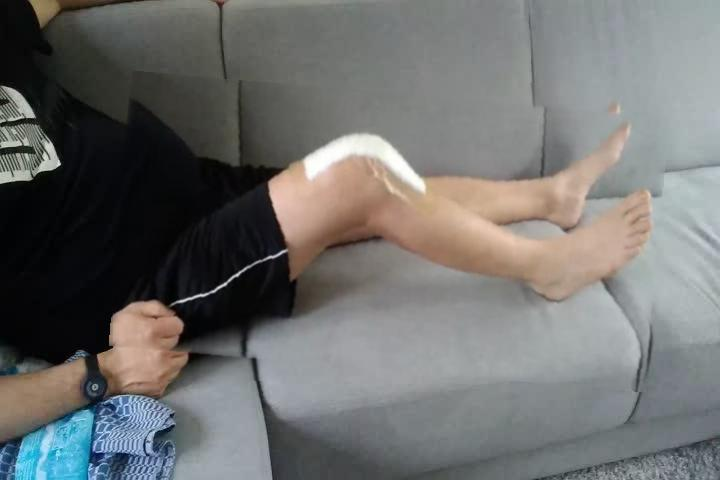lower_body: (115, 84, 665, 382)
